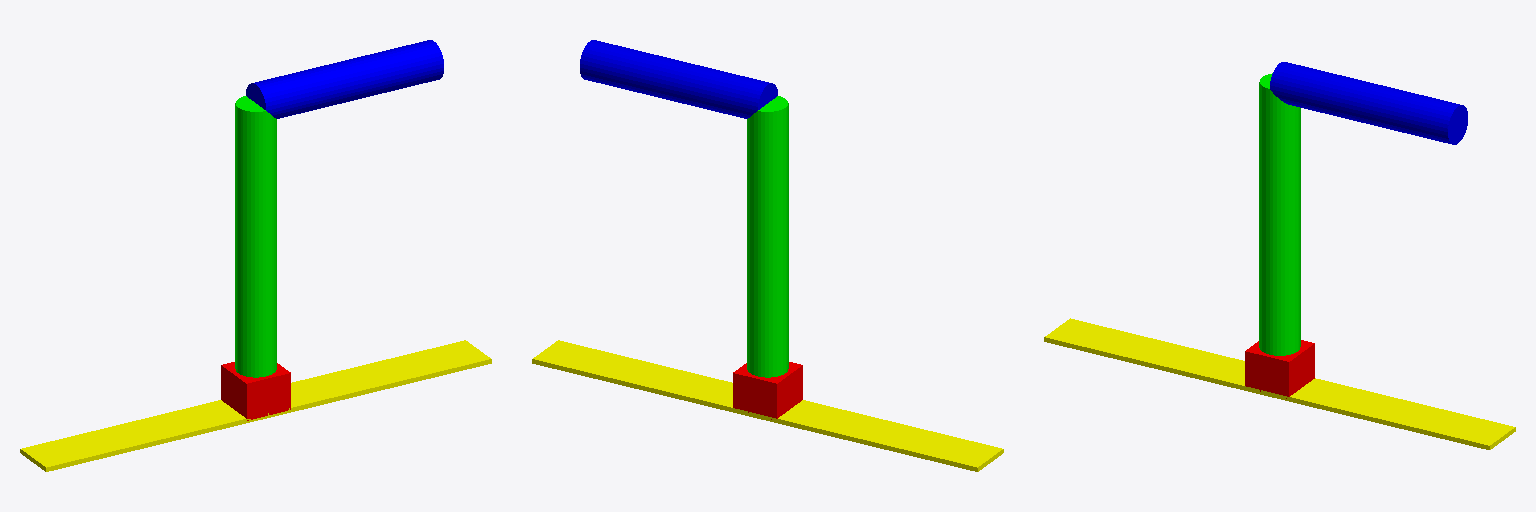
The robot description file, URDF, robot "simple_robot":
<robot name="simple_robot"> <!-- robot name- you decide -->
<!-- sequence : link-joint-link-joint-...-link... -->
<!-- units: meters for distance,rad in case of angles -->
<!-- first link called base_link -->
<link name= "base_link">
	<visual>
		<geometry>
        	<box size="1.0 0.1 0.01"/>
      	</geometry>
		<origin rpy="0 0 0" xyz="0 0 0"/> <!-- rpy: roll pitch yaw -> orientation xyz -> position --> 
		<material name= "base_color">
			<color rgba="1 1 0 1"/> 
		</material>
	</visual>

</link>
<!-- first joint-->
<joint name="joint1" type= "prismatic"> <!-- types: revolute and prismatic -->
	<parent link="base_link"/>
	<child link="link1"/>
	<origin xyz ="0 0 0"/>
	<axis xyz="1 0 0"/>
	<limit effort="300" velocity="0.1" lower="-0.5" upper="0.5"/>
	<dynamics damping="50" friction="1"/>

</joint>
<!-- link1-->
<link name= "link1">
	<visual>
		<geometry>
        	<box size="0.1 0.1 0.08"/>
      	</geometry>
		<origin rpy="0 0 0" xyz="0 0 0.04"/> <!-- rpy: roll pitch yaw -> orientation xyz -> position --> 
		<material name= "link1_color">
			<color rgba="1 0 0 1"/> 
		</material>
	</visual>

</link>

<!-- second joint-->
<joint name="joint2" type= "revolute"> <!-- types: revolute and prismatic -->
	<parent link="link1"/>
	<child link="link2"/>
	<origin xyz ="0 0 0.05"/>
	<axis xyz="0 0 1"/>
	<limit effort="300" velocity="0.1" lower="-3.14159" upper="3.14159"/>
	<dynamics damping="50" friction="1"/>

</joint>

<!-- link2-->
<link name= "link2">
	<visual>
		<geometry>
			<cylinder length="0.6" radius="0.04"/>
		</geometry>
		<origin rpy="0 0 0" xyz="0 0 0.3"/> <!-- rpy: roll pitch yaw -> orientation xyz -> position --> 
		<material name= "link2_color">
			<color rgba="0 1 0 1"/> 
		</material>
	</visual>

</link>

<!-- third joint-->
<joint name="joint3" type= "revolute"> <!-- types: revolute and prismatic -->
	<parent link="link2"/>
	<child link="link3"/>
	<origin xyz ="0 0 0.6"/>
	<axis xyz="0 -1 0"/>
	<limit effort="300" velocity="0.1" lower="-3.14159" upper="3.14159"/>
	<dynamics damping="50" friction="1"/>

</joint>

<!-- link3-->
<link name= "link3">
	<visual>
		<geometry>
			<cylinder length="0.4" radius="0.04"/>
		</geometry>
		<origin rpy="0 1.5707 0" xyz="0.2 0 0"/> <!-- rpy: roll pitch yaw -> orientation xyz -> position --> 
		<material name= "link3_color">
			<color rgba="0 0 1 1"/> 
		</material>
	</visual>

</link>


<!-- link extra-->
<joint name="joint4" type="fixed">
	<parent link="link3"/>
	<child link="link4"/>
	<origin xyz="0.4 0 0"/>
	<axis xyz="1 0 0"/>
	<limit effort="300" velocity="0.1" lower="-3.14159" upper="3.14159"/>
    <dynamics damping="50" friction="1"/>
</joint>
  
<link name="link4">
	<visual>
		<geometry>
			<cylinder length="0.0" radius="0.0"/>
		</geometry>
		<origin rpy="0 0 0" xyz="0 0 0"/> <!-- rpy: roll pitch yaw -> orientation xyz -> position --> 
        <material name= "link4_color">
            <color rgba="0 0 0 1"/> 
        </material>
	</visual>
</link>


</robot>

--- Render facts (derived) ---
3 views of the same robot in one strip: view 1: azimuth 30°, elevation 25°; view 2: azimuth 150°, elevation 25°; view 3: azimuth 330°, elevation 25° (orthographic).
Robot: simple_robot — 5 links, 4 joints (2 revolute, 1 prismatic, 1 fixed); root link base_link; default pose: every joint at zero.
Links seen in each view (by area): view 1: base_link, link2, link3, link1; view 2: base_link, link2, link3, link1; view 3: base_link, link2, link3, link1.
Link boxes in pixels (x1=…): base_link: x1=20, y1=340, x2=491, y2=471; link2: x1=235, y1=96, x2=276, y2=377; link3: x1=246, y1=40, x2=443, y2=118; link1: x1=221, y1=362, x2=290, y2=420; base_link: x1=532, y1=340, x2=1003, y2=471; link2: x1=747, y1=96, x2=788, y2=377; link3: x1=580, y1=40, x2=777, y2=118; link1: x1=733, y1=362, x2=802, y2=419; base_link: x1=1044, y1=318, x2=1515, y2=449; link2: x1=1259, y1=73, x2=1300, y2=355; link3: x1=1270, y1=62, x2=1467, y2=144; link1: x1=1245, y1=340, x2=1314, y2=398.
Size in the robot's own frame: 1 by 0.1 by 0.695 metres.
Geometry: primitives only (box / cylinder / sphere), no mesh files.